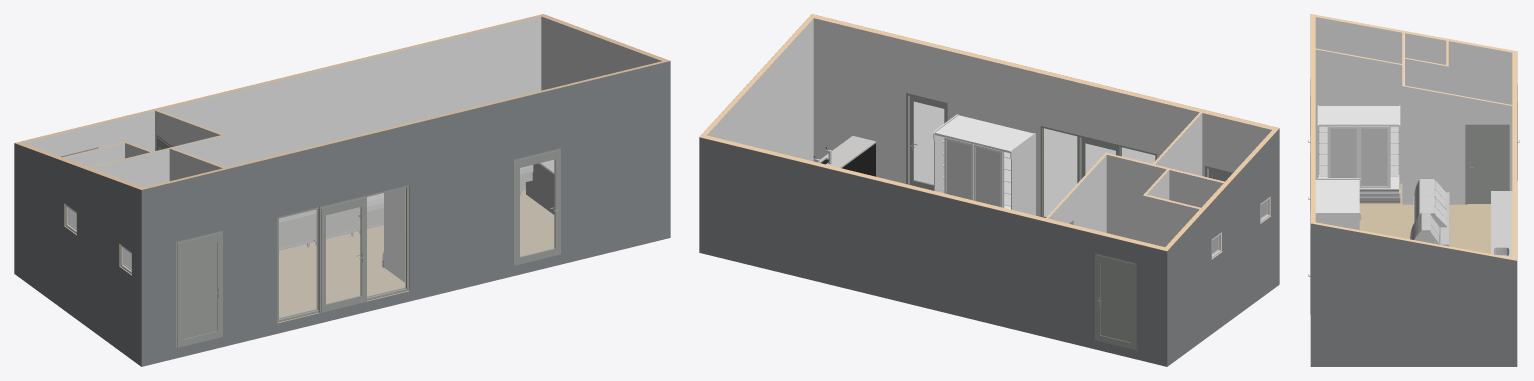
Rendered from Valkininkai_Mėsos krautuvėlė(5,0x12,0)_R00.fbx.
3 views of the same model, side by side, from view 1: azimuth 30°, elevation 25°; view 2: azimuth 150°, elevation 25°; view 3: azimuth 270°, elevation 25° (orthographic). The views are drawn at different scales.
Parts seen in each view (by area): view 1: IfcWall/Part:2405523, IfcWall/Part:2405279, IfcWall/Part:2405271, IfcSlab/Part:2405282, IfcDoor/Simple_vitree_-_03:1000x2300:2318509, IfcDoor/Simple_vitree_-_03:1000x2300:2319070, IfcDoor/Simple_vitree_-_03:1000x2300 nepermatomos durys:2319, IfcWall/Part:2405276, IfcWindow/Aluprof_MB-86-SI_E_Alu_Window-1sash-FIX_ENG_R-0004, IfcWindow/Aluprof_MB-86-SI_E_Alu_Window-1sash-FIX_ENG_R-000, IfcBuildingElementProxy/Food_Service_Equipment-Display_Case. (×2), IfcWall/Part:2405264 (+10 smaller); view 2: IfcWall/Part:2405280, IfcWall/Part:2405522, IfcWall/Part:2405271, IfcBuildingElementProxy/Freezer_-_Upright_Two_Door:62" Lengt, IfcWall/Part:2405276, IfcDoor/Simple_vitree_-_03:1000x2100:2321252, IfcWall/Part:2405263, IfcDoor/Simple_vitree_-_03:1000x2300:2319070, IfcWindow/Aluprof_MB-86-SI_E_Alu_Window-1sash-FIX_ENG_R-000, IfcWall/Part:2405267, IfcWall/Part:2405524, IfcWall/Part:2405254 (+7 smaller); view 3: IfcWall/Part:2405277, IfcWall/Part:2405268, IfcWall/Part:2405270, IfcBuildingElementProxy/Freezer_-_Upright_Two_Door:62" Leng, IfcWall/Part:2405260, IfcSlab/Part:2405282, IfcDoor/Simple_vitree_-_03:1000x2100:2319457, IfcBuildingElementProxy/Freezer_-_Upright_Two_Door:62" Lengt, IfcBuildingElementProxy/Food_Service_Equipment-Display_Case. (×2), IfcWall/Part:2405257, IfcFurnishingElement/Workshop countertop6:Workshop counterto, IfcWall/Part:2405281 (+7 smaller).
Part boxes in pixels (x1,y1,x2,y2): IfcWall/Part:2405523: (141, 61, 670, 366); IfcWall/Part:2405279: (23, 16, 541, 167); IfcWall/Part:2405271: (14, 143, 141, 366); IfcSlab/Part:2405282: (279, 190, 554, 317); IfcDoor/Simple_vitree_-_03:1000x2300:2318509: (317, 195, 366, 312); IfcDoor/Simple_vitree_-_03:1000x2300:2319070: (514, 148, 560, 265); IfcDoor/Simple_vitree_-_03:1000x2300 nepermatomos durys:2319: (176, 230, 222, 347); IfcWall/Part:2405276: (541, 16, 662, 90); IfcWindow/Aluprof_MB-86-SI_E_Alu_Window-1sash-FIX_ENG_R-0004: (277, 207, 319, 322); IfcWindow/Aluprof_MB-86-SI_E_Alu_Window-1sash-FIX_ENG_R-000: (367, 185, 408, 300); IfcBuildingElementProxy/Food_Service_Equipment-Display_Case. (×2): (279, 207, 360, 250); IfcWall/Part:2405264: (91, 148, 169, 268); IfcWall/Part:2405280: (699, 137, 1167, 366); IfcWall/Part:2405522: (813, 18, 1271, 217); IfcWall/Part:2405271: (1167, 128, 1279, 366); IfcBuildingElementProxy/Freezer_-_Upright_Two_Door:62" Lengt: (933, 114, 1035, 215); IfcWall/Part:2405276: (707, 18, 813, 161); IfcDoor/Simple_vitree_-_03:1000x2100:2321252: (1095, 253, 1136, 350); IfcWall/Part:2405263: (1106, 154, 1166, 241); IfcDoor/Simple_vitree_-_03:1000x2300:2319070: (906, 93, 947, 190); IfcWindow/Aluprof_MB-86-SI_E_Alu_Window-1sash-FIX_ENG_R-000: (1040, 126, 1080, 217); IfcWall/Part:2405267: (1048, 155, 1106, 232); IfcWall/Part:2405524: (814, 15, 1278, 216); IfcWall/Part:2405254: (1143, 195, 1199, 246); IfcWall/Part:2405277: (1310, 223, 1516, 366); IfcWall/Part:2405268: (1402, 86, 1512, 204); IfcWall/Part:2405270: (1315, 17, 1512, 104); IfcBuildingElementProxy/Freezer_-_Upright_Two_Door:62" Leng: (1317, 105, 1400, 203); IfcWall/Part:2405260: (1315, 49, 1402, 183); IfcSlab/Part:2405282: (1359, 183, 1490, 253); IfcDoor/Simple_vitree_-_03:1000x2100:2319457: (1465, 124, 1509, 204); IfcBuildingElementProxy/Freezer_-_Upright_Two_Door:62" Lengt: (1315, 178, 1361, 230); IfcBuildingElementProxy/Food_Service_Equipment-Display_Case. (×2): (1413, 178, 1449, 227); IfcWall/Part:2405257: (1405, 58, 1448, 93); IfcFurnishingElement/Workshop countertop6:Workshop counterto: (1491, 191, 1512, 240); IfcWall/Part:2405281: (1512, 50, 1516, 260).
Bounding box in the file's own units: 1200 × 383 × 512.
